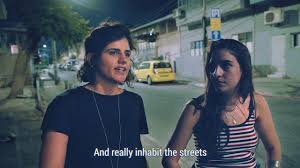no-mask: (91, 29, 136, 91), (202, 45, 252, 100)
